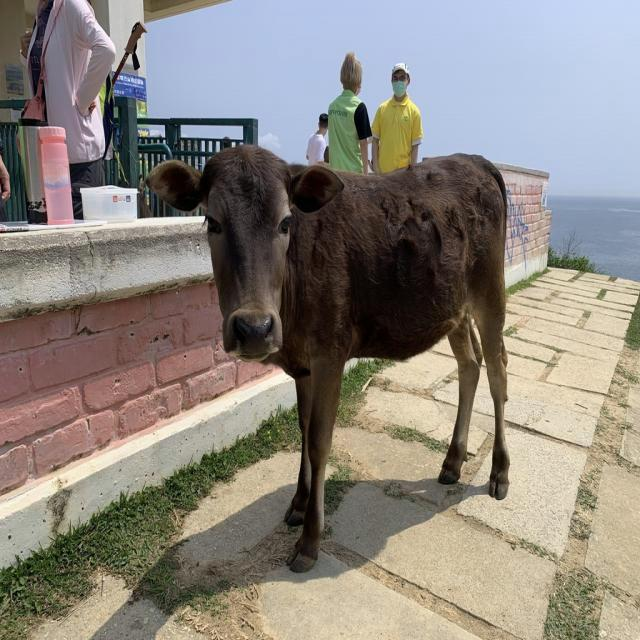cow: (150, 145, 509, 572)
